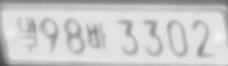0: (164, 18, 189, 58)
3: (191, 18, 214, 58), (116, 18, 140, 55), (140, 19, 164, 56)
8: (62, 16, 85, 54)
9: (39, 16, 60, 52)
대구_V: (15, 15, 38, 54)
바: (86, 22, 107, 51)
